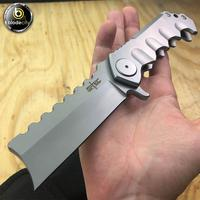knife: (5, 11, 189, 188)
